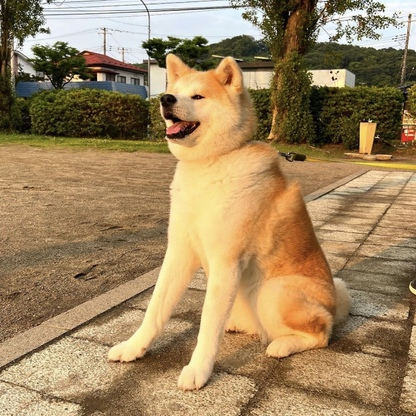akita: (103, 49, 358, 394)
